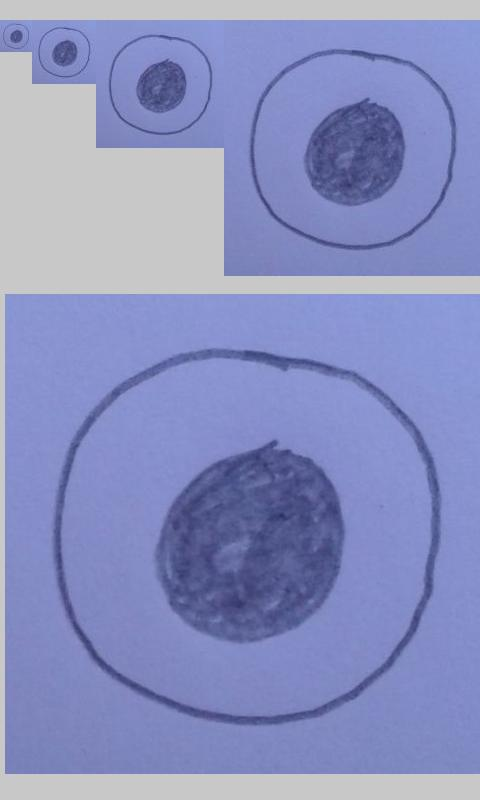radio_button: (47, 345, 445, 731), (249, 47, 458, 251), (108, 34, 213, 136), (37, 26, 91, 79), (2, 23, 31, 49)
